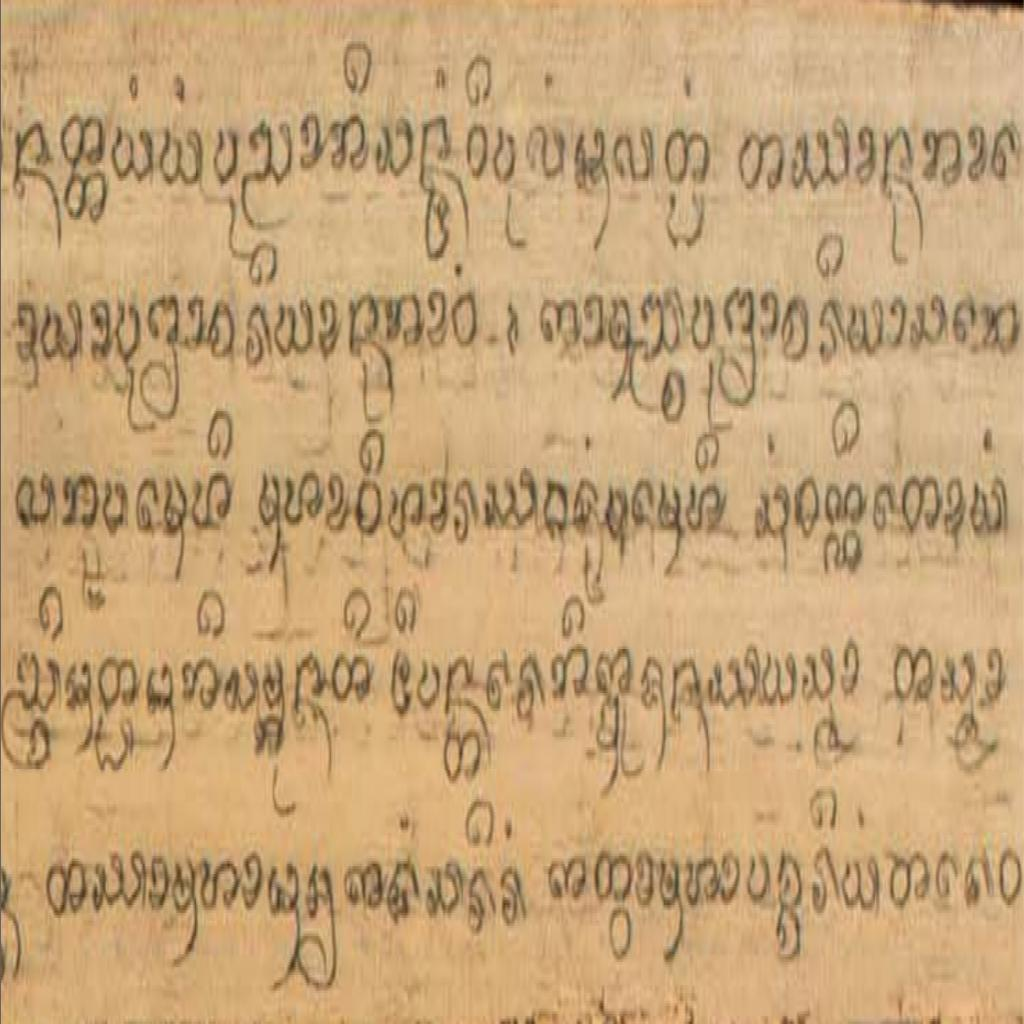LN008: (640, 651, 667, 719)
LN011: (240, 113, 296, 238)
LN030: (550, 641, 592, 708)
